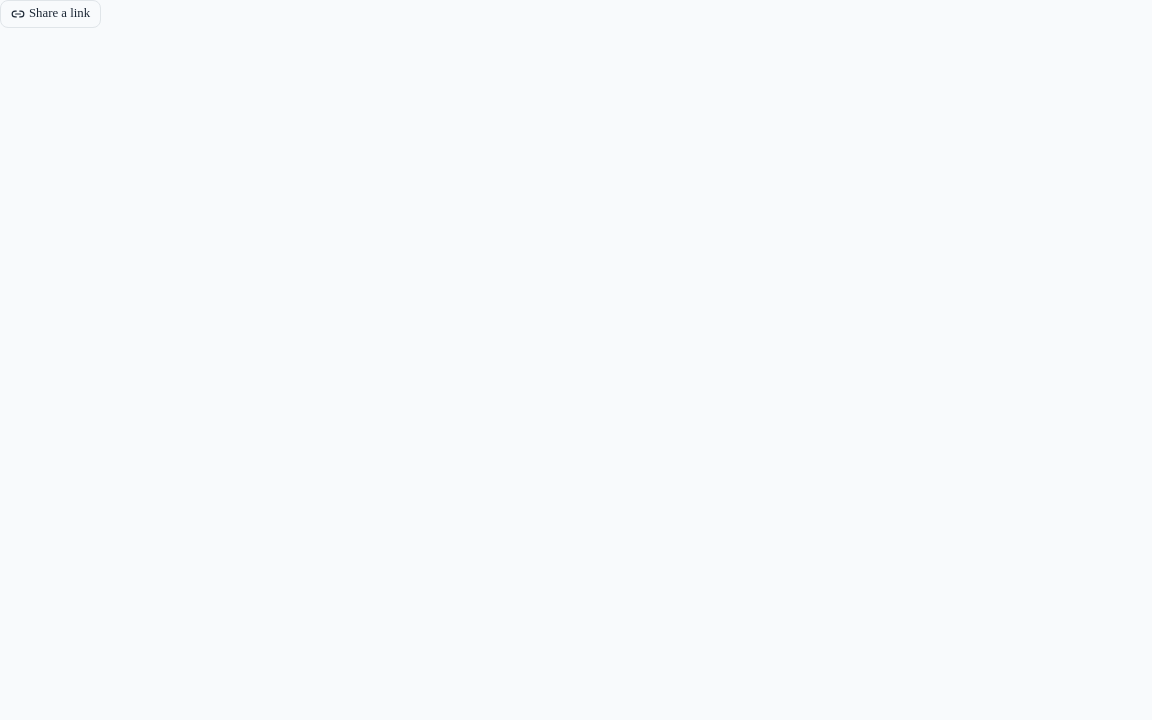
Test: ShareLinkButton › creates a link with the chosen scope, expiry and header, and shows the URL exactly once
The width and height of the screenshot is (1152, 720).
Step 1. Click the button "Share a link" → coordinates (51, 14), box x1=0 y1=0 x2=101 y2=28
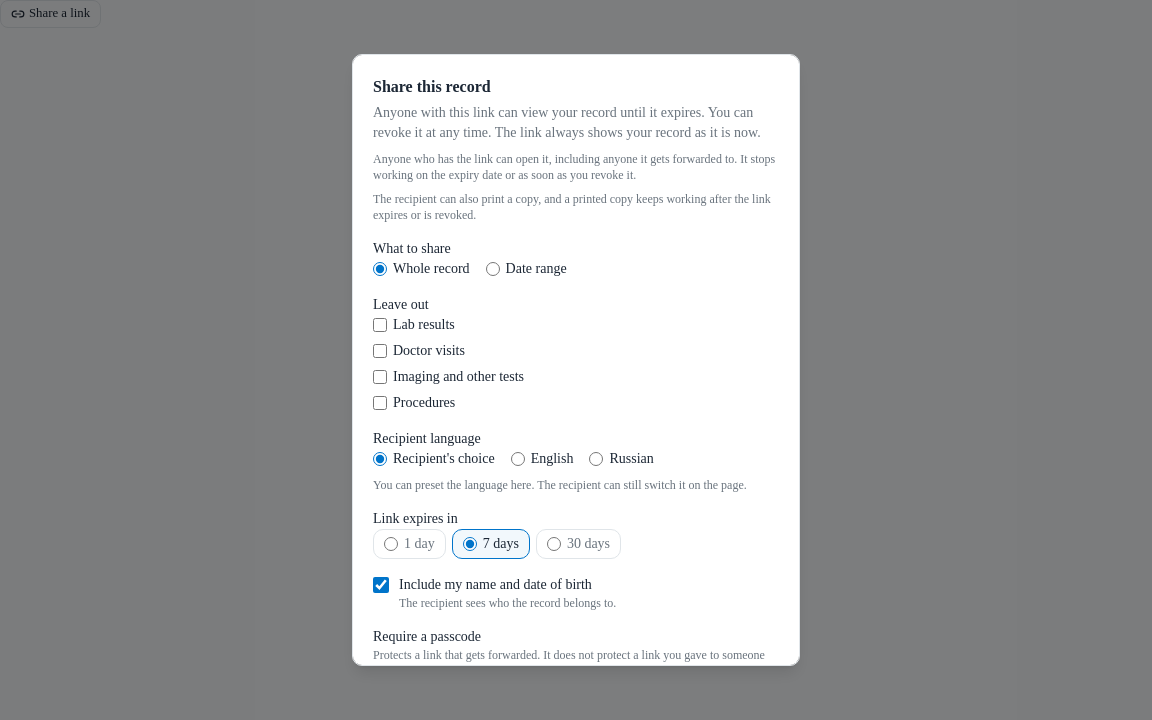
Result: the text "Anyone with this link can view your record" is shown at x1=373 y1=105 x2=761 y2=140
Result: the text "including anyone it gets forwarded to" is shown at x1=373 y1=152 x2=775 y2=182
Step 2. Click the radio button labelled "Date range" → coordinates (493, 269), box x1=486 y1=262 x2=500 y2=276
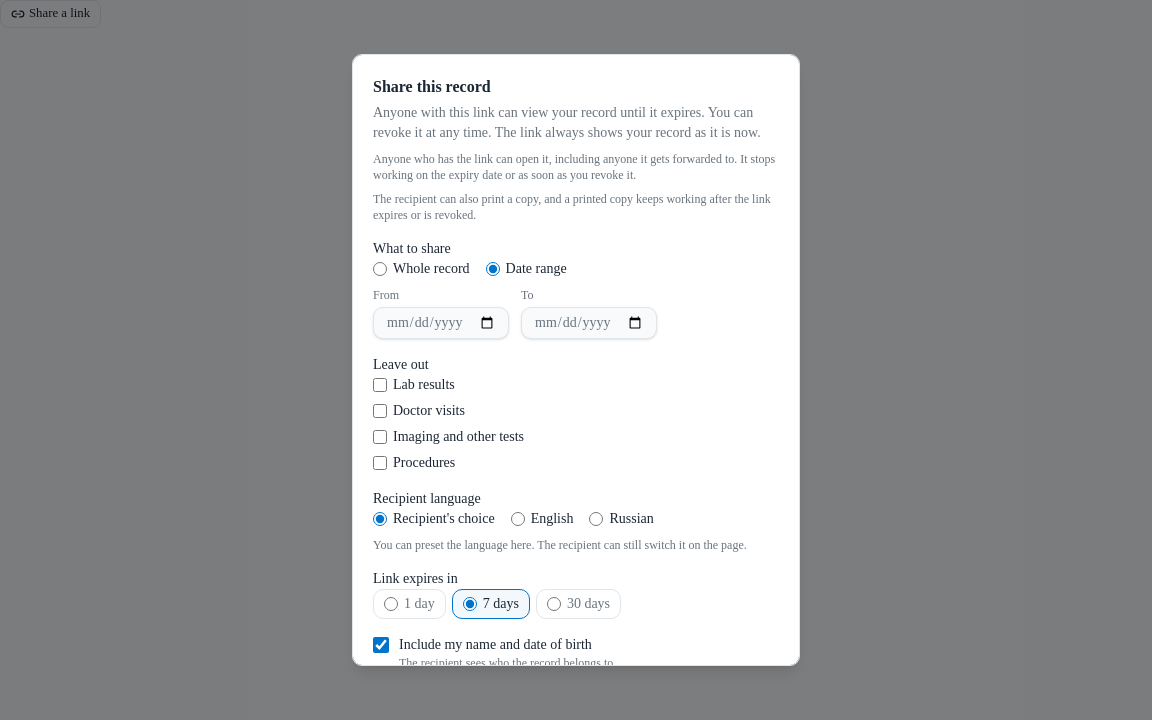
Step 3. Type "2026-01-01" into the date field with test id "share-scope-from" → coordinates (441, 323), box x1=373 y1=307 x2=509 y2=339
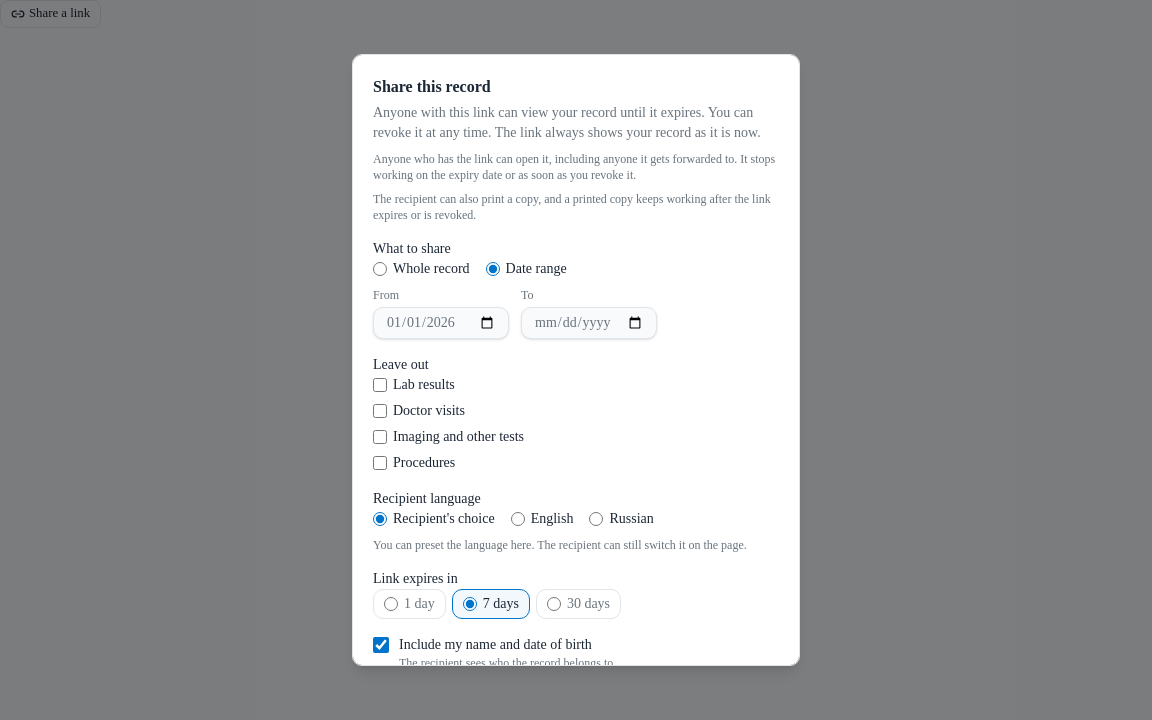
Step 4. Type "2026-03-31" into the date field with test id "share-scope-to" → coordinates (589, 323), box x1=521 y1=307 x2=657 y2=339
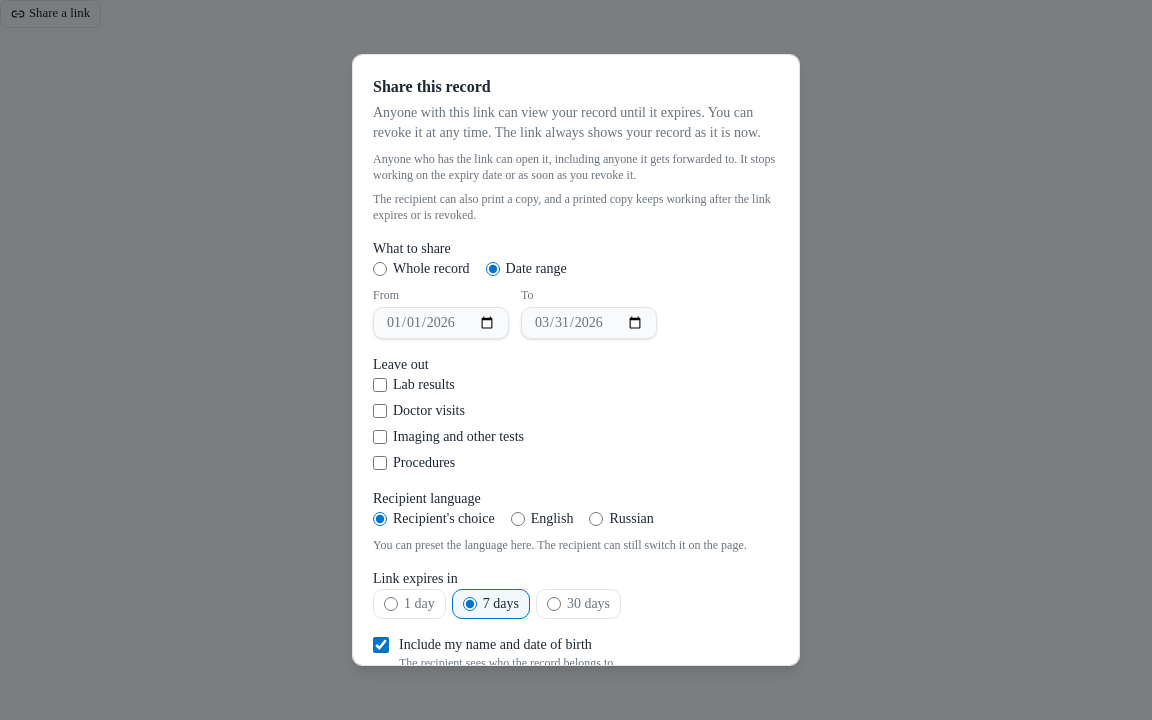
Step 5. Click the radio button labelled "30 days" → coordinates (554, 604), box x1=547 y1=597 x2=561 y2=611
(page scrolled)
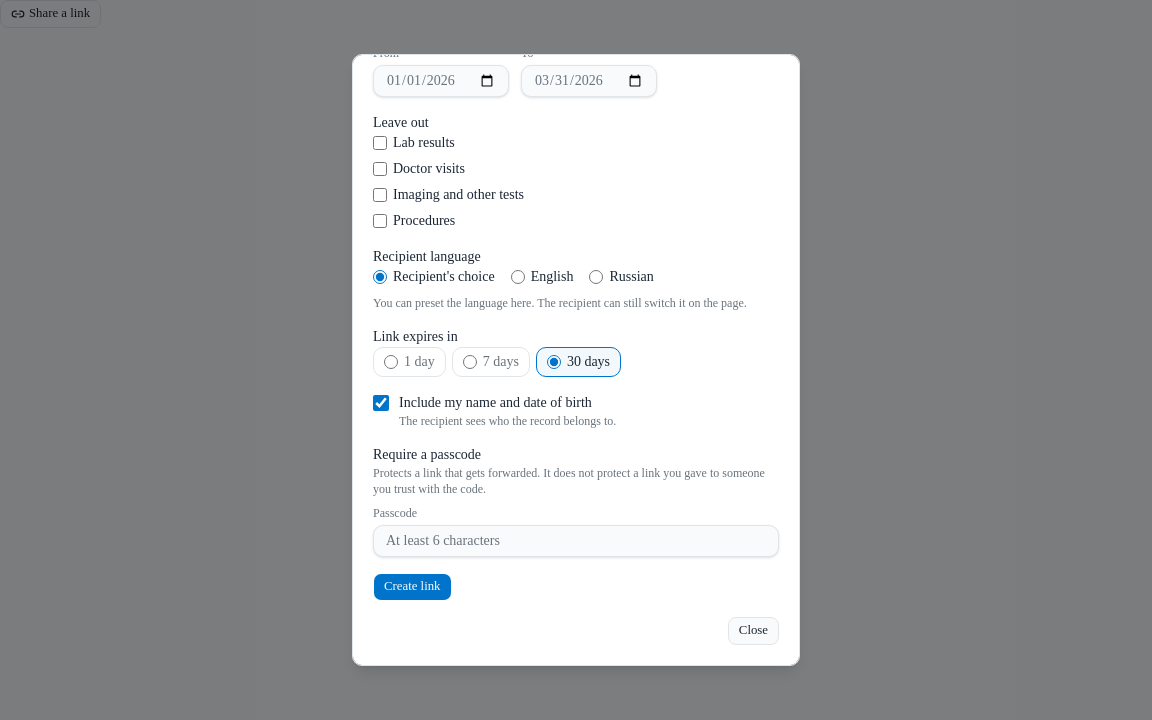
Step 6. Click the button "Create link" → coordinates (412, 587), box x1=373 y1=573 x2=452 y2=601
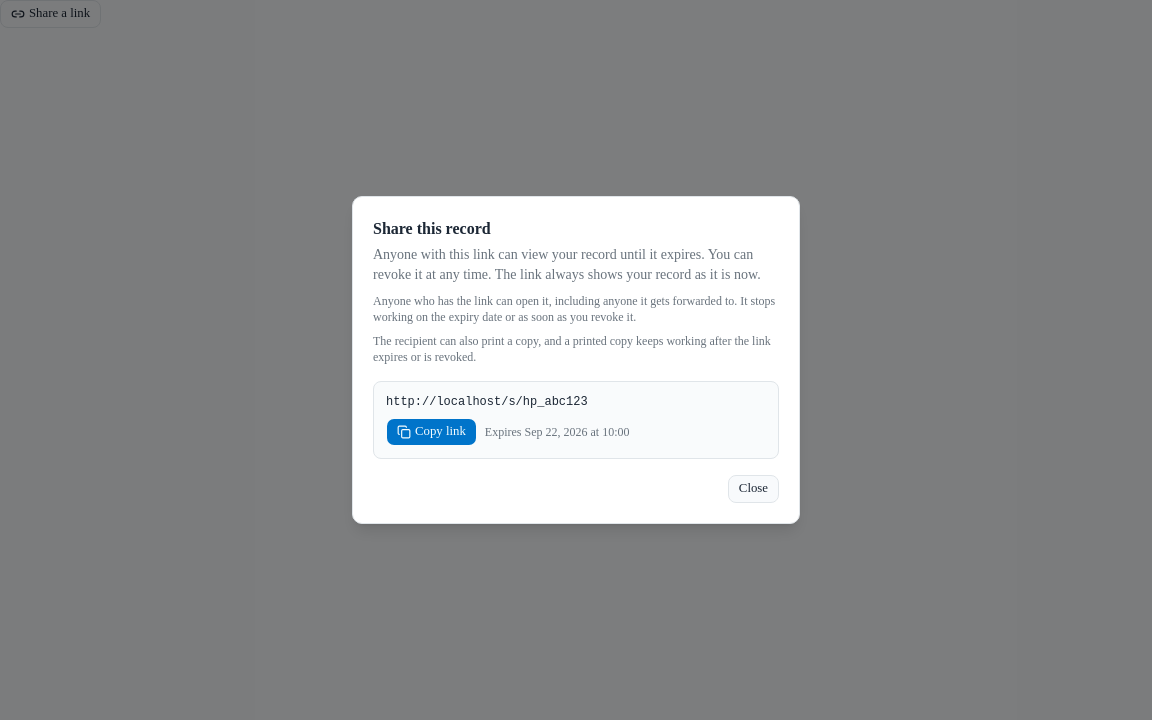
Result: the text "http://localhost/s/hp_abc123" is shown at x1=386 y1=395 x2=588 y2=409
